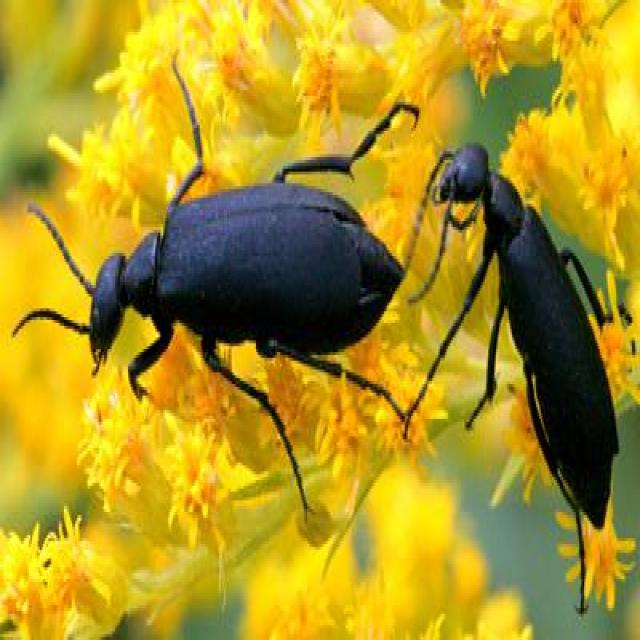BlisterBeetle-Adult-: (46, 53, 423, 483), (426, 109, 630, 542)
